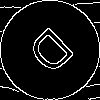D: (25, 25, 83, 83)
